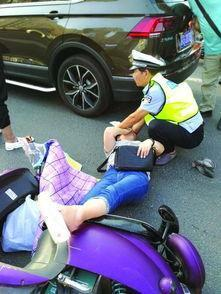Fall-Detected: (31, 103, 164, 251)
